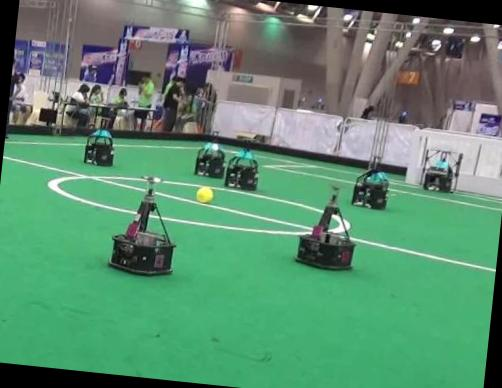ball: (195, 187, 213, 203)
robot: (109, 177, 175, 274), (295, 187, 353, 269), (351, 161, 388, 209), (422, 150, 462, 192), (224, 148, 257, 190), (194, 142, 224, 178), (83, 129, 112, 165)
